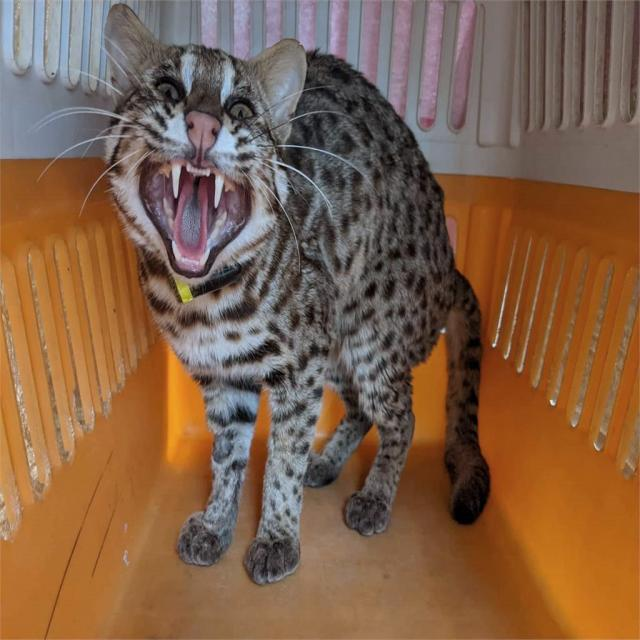leopard: (96, 4, 569, 576)
